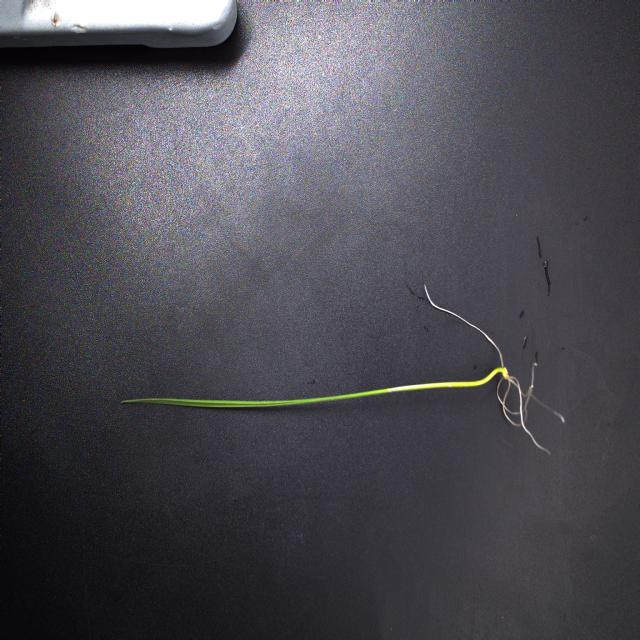leaf: (121, 395, 291, 410)
root: (421, 283, 567, 458)
stem: (288, 365, 504, 410)
